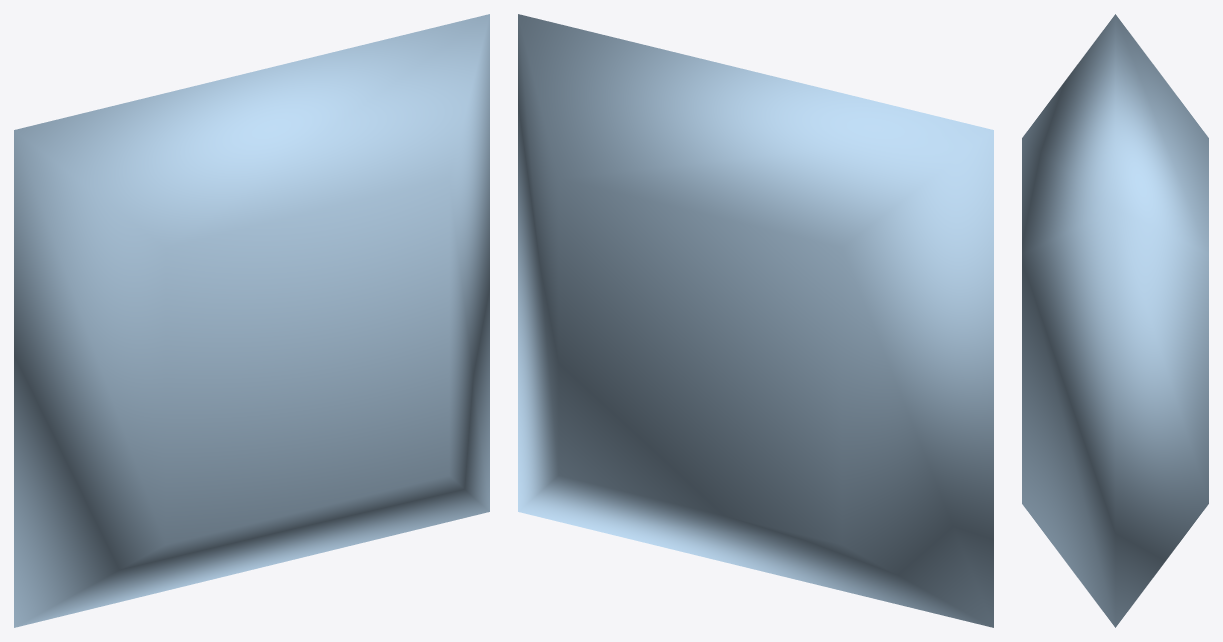
Rendered from scheelite.glb.
3 views of the same model, side by side, from view 1: azimuth 30°, elevation 25°; view 2: azimuth 150°, elevation 25°; view 3: azimuth 270°, elevation 25° (orthographic). The views are drawn at different scales.
Parts seen in each view (by area): view 1: scheelite; view 2: scheelite; view 3: scheelite.
Part boxes in pixels (<box>): scheelite: <box>14,14,489,627</box>; scheelite: <box>518,14,993,627</box>; scheelite: <box>1022,14,1208,627</box>.
Bounding box in the file's own units: 1.98 × 1.98 × 0.8.
